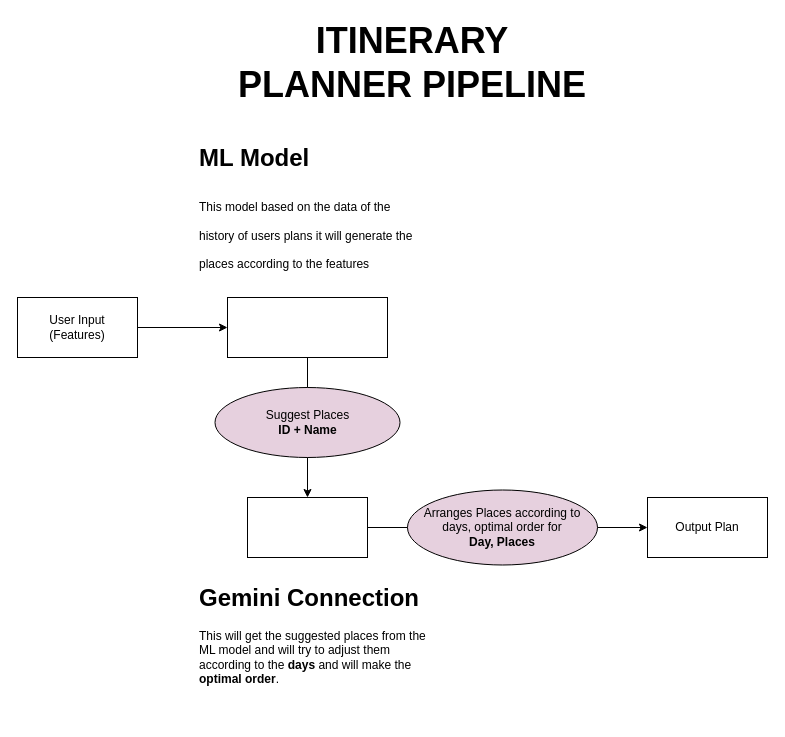
The diagram is 785 pixels wide and 737 high, and some of its shapes have lost their labels. The shapes that lost their labels are listed below. From the top down, each one's centre as x and y in pixels, then its label:
At [307,327]: "ML Model".
At [307,527]: "LLM Model".
